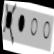correct: (15, 12, 27, 37)
not correct: (0, 0, 20, 47)
